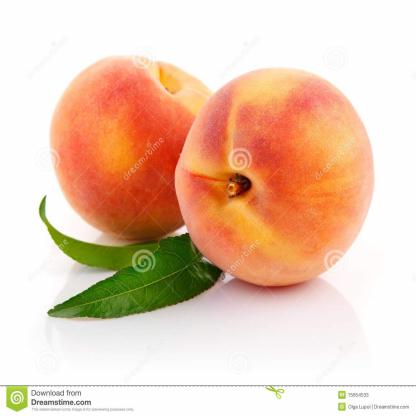Peach leaf: (42, 238, 228, 326), (34, 194, 172, 271)
